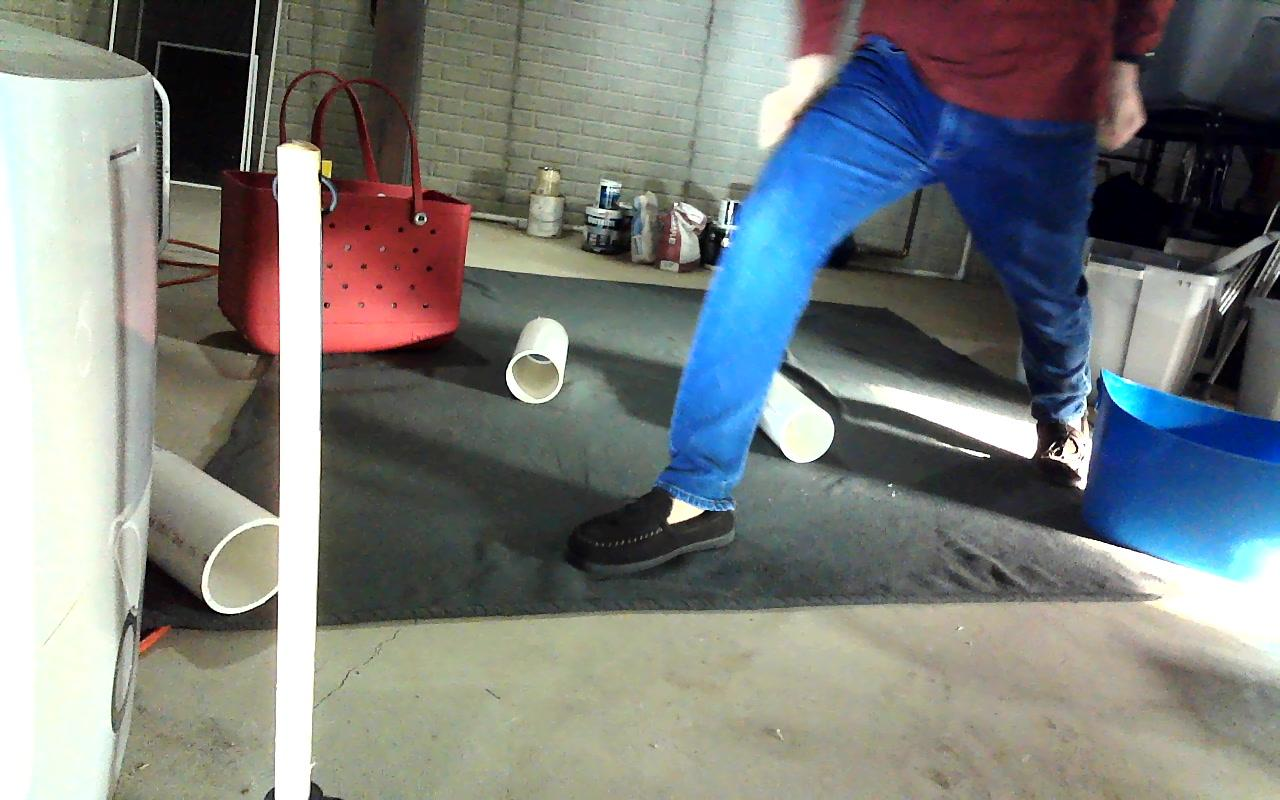coral: (145, 439, 280, 613), (760, 370, 833, 461), (505, 318, 568, 403)
